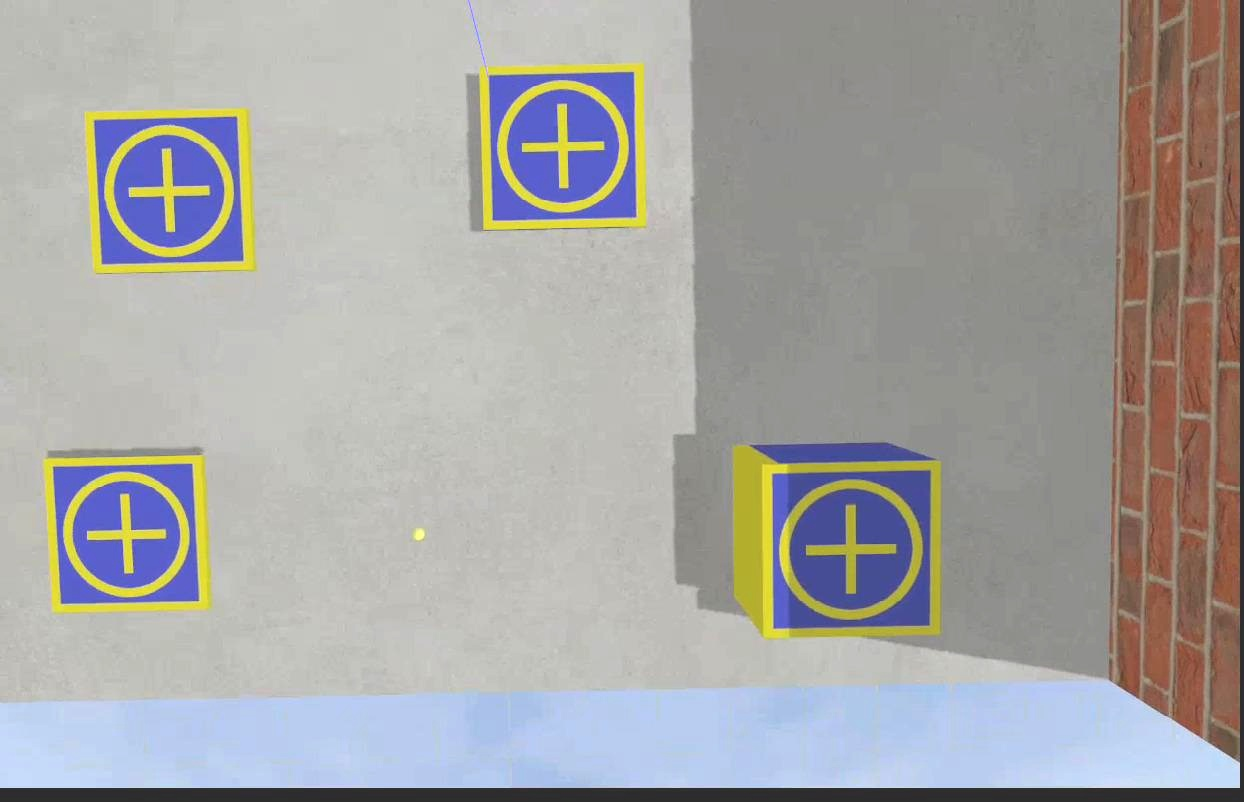small_base: (759, 460, 944, 643), (477, 64, 647, 232), (83, 110, 258, 272), (44, 450, 213, 617)
